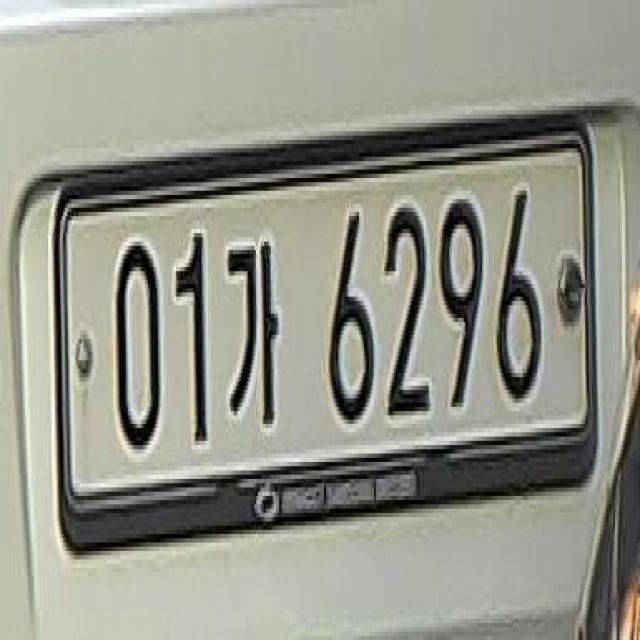illegal_plate: (49, 119, 609, 542)
